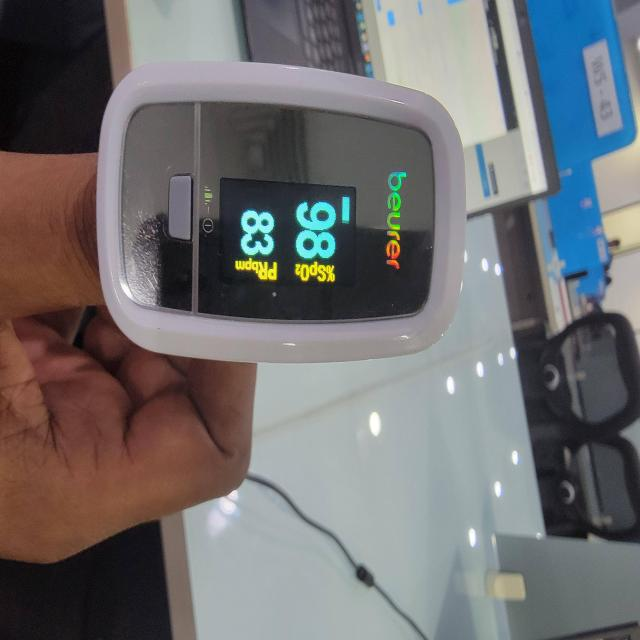spo2: (94, 61, 467, 367)
